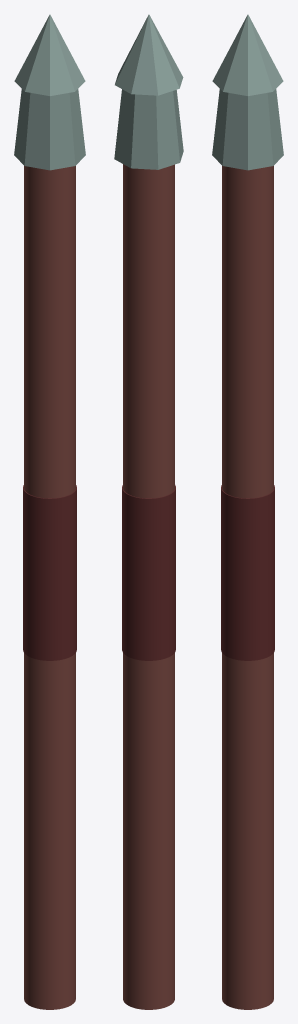
The model's file is Spear.fbx.
3 renders of one model, left to right at view 1: azimuth 90°, elevation 25°; view 2: azimuth 150°, elevation 25°; view 3: azimuth 270°, elevation 25°, orthographic.
Parts seen in each view (by area): view 1: Cylinder; view 2: Cylinder; view 3: Cylinder.
Boxes of the visible parts, x1,y1,x2,y2 form: Cylinder: (14, 14, 85, 1009); Cylinder: (114, 14, 183, 1009); Cylinder: (212, 14, 283, 1009).
Size of the model in its own units: 72.02 by 1089 by 72.02.
